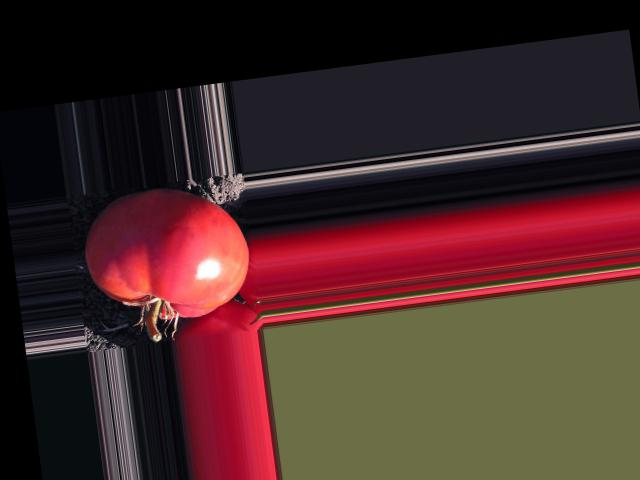tomato: (77, 178, 255, 329)
